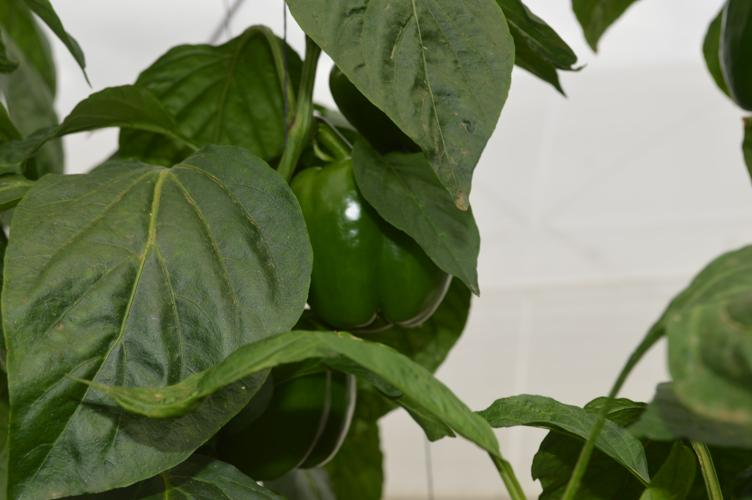BellPepper: (290, 160, 454, 329), (215, 330, 365, 481)
